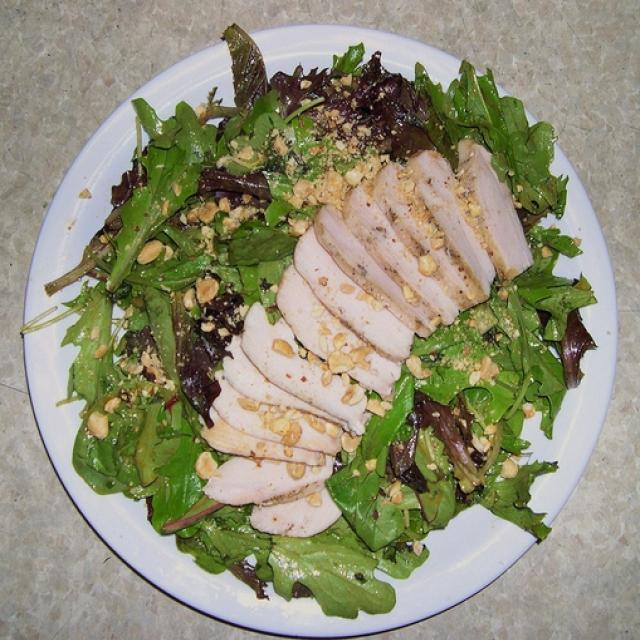鸡肉料理 含炸鸡: (35, 44, 608, 605)
